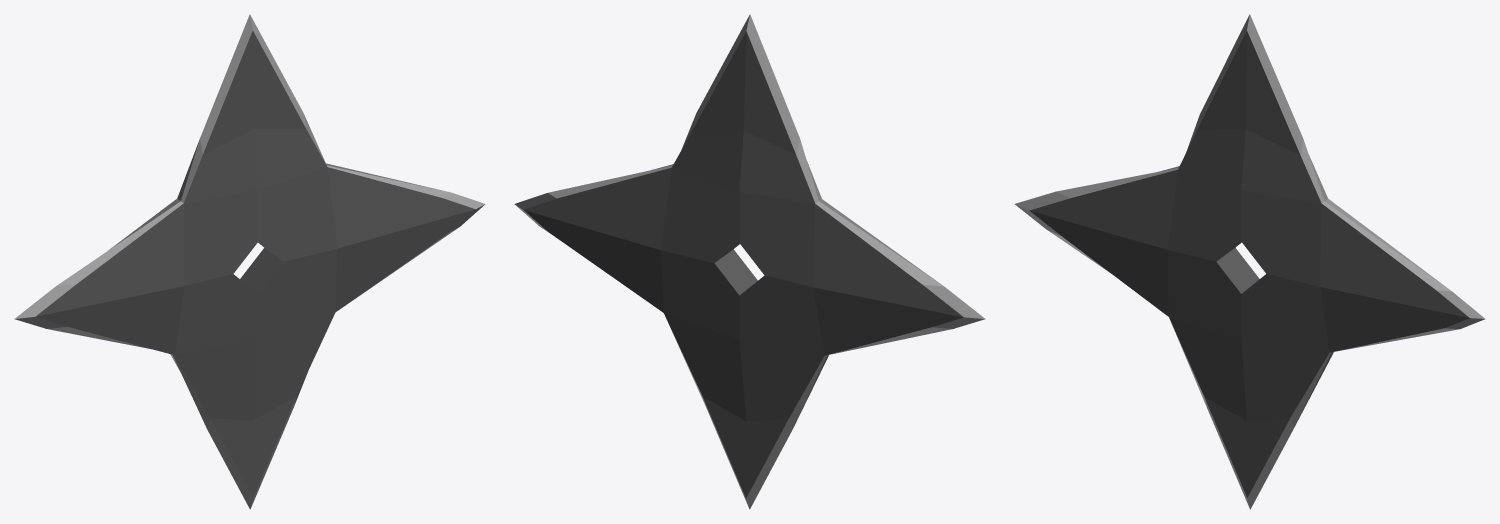
The model's file is Shuriken_3.fbx.
3 renders of one model, left to right at view 1: azimuth 30°, elevation 25°; view 2: azimuth 150°, elevation 25°; view 3: azimuth 330°, elevation 25°, orthographic.
Parts seen in each view (by area): view 1: Circle.002; view 2: Circle.002; view 3: Circle.002.
Part boxes in pixels (box(x1,y1,x2,y2)): Circle.002: box(14, 14, 485, 509); Circle.002: box(514, 14, 985, 509); Circle.002: box(1014, 14, 1484, 509).
Bounding box in the file's own units: 11.58 × 11.65 × 0.8176.
